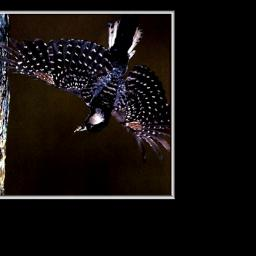Woodpecker: (0, 17, 171, 159)
